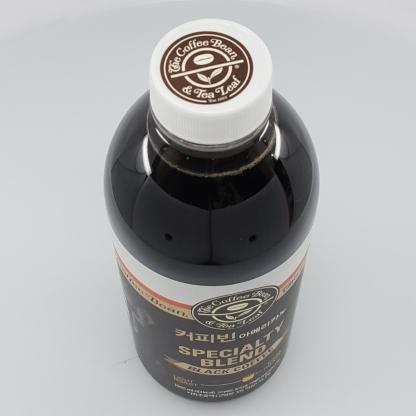--------: (103, 18, 321, 402)
